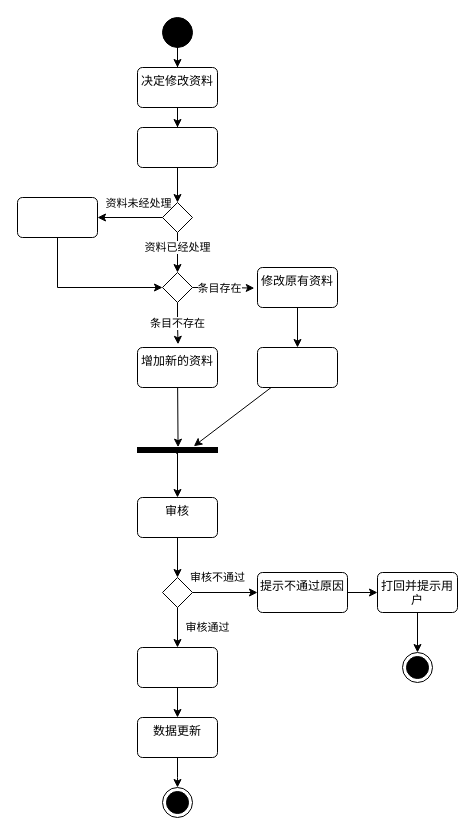
This 475x835 diagram has some shape labels left out. Here are the shapes that lost their labels. From the top down, the centre of each, then its label:
At (x=177, y=147): "准备资料".
At (x=57, y=217): "处理资料".
At (x=297, y=367): "增加修改记录".
At (x=177, y=667): "提示审核通过".
